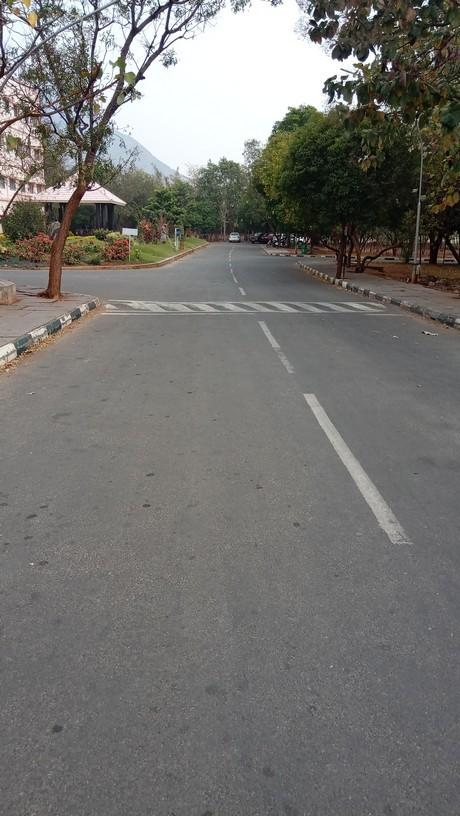speed-bump: (99, 299, 404, 317)
